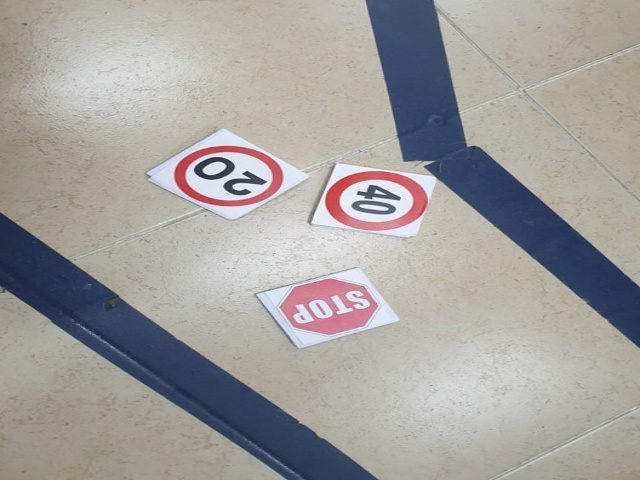Limit 20: (175, 148, 283, 210)
Limit 40: (327, 170, 428, 233)
Stop: (278, 279, 381, 335)
